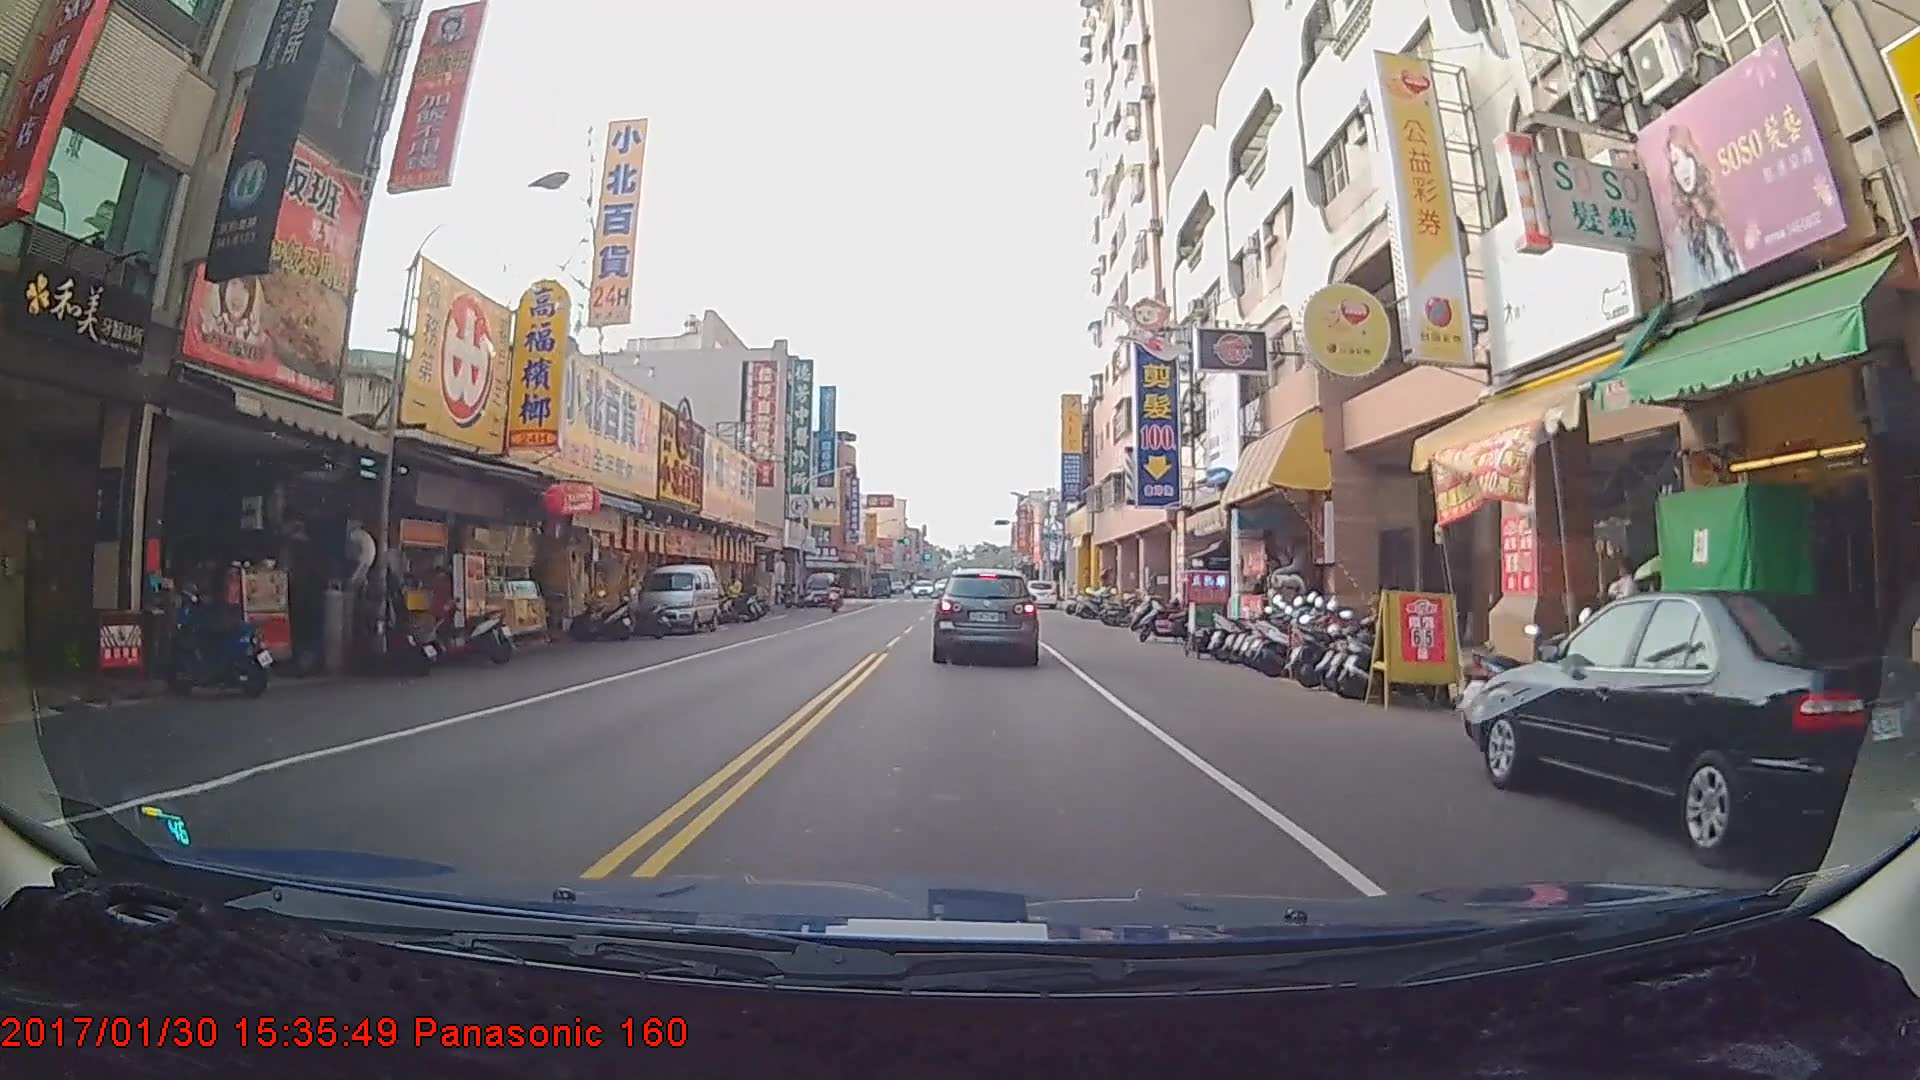pedestrian: (724, 570, 745, 624)
rider: (822, 570, 846, 613)
vehicle: (1468, 589, 1920, 869), (933, 567, 1039, 665), (635, 565, 719, 636), (804, 572, 841, 608), (1025, 579, 1057, 610)
